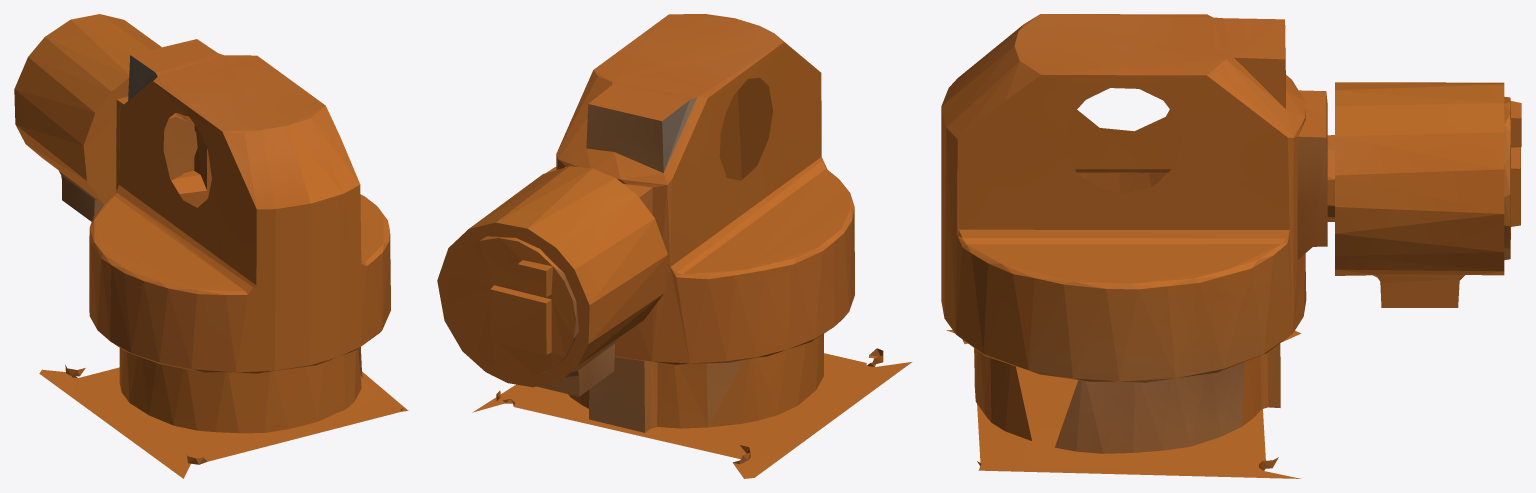
3 renders of one model, left to right at view 1: azimuth 30°, elevation 25°; view 2: azimuth 150°, elevation 25°; view 3: azimuth 270°, elevation 25°, orthographic. The views are drawn at different scales.
Visible parts, largest first — view 1: robotic_arm.005; view 2: robotic_arm.005; view 3: robotic_arm.005.
Part boxes in pixels (left/top/right/bottom): robotic_arm.005: left=14, top=14, right=408, bottom=478; robotic_arm.005: left=437, top=14, right=911, bottom=478; robotic_arm.005: left=941, top=14, right=1521, bottom=478.
Size of the model in its own units: 2.58 by 2.84 by 4.11.
1 material, 1 textured.
